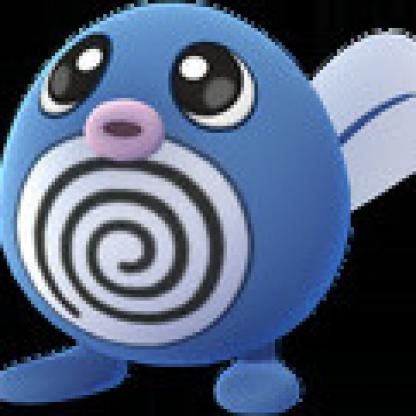Poliwag: (1, 1, 414, 400)
